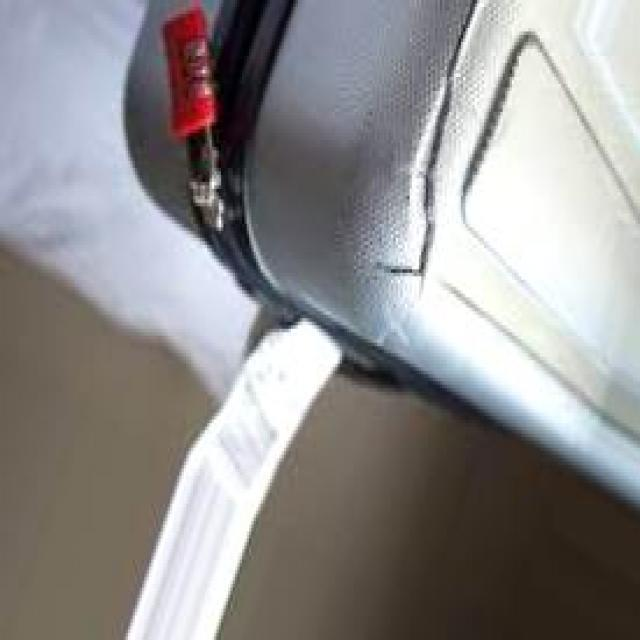Damage-bag: (382, 0, 477, 292)
